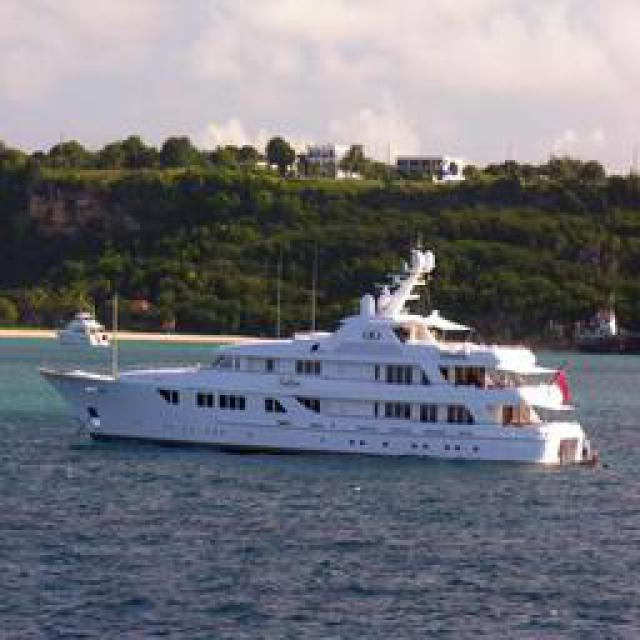Ship: (51, 253, 606, 471)
